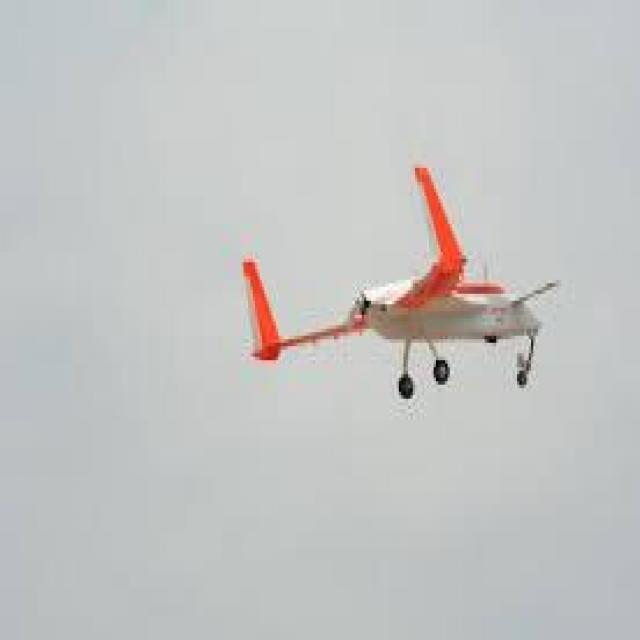iha: (223, 212, 609, 380)
